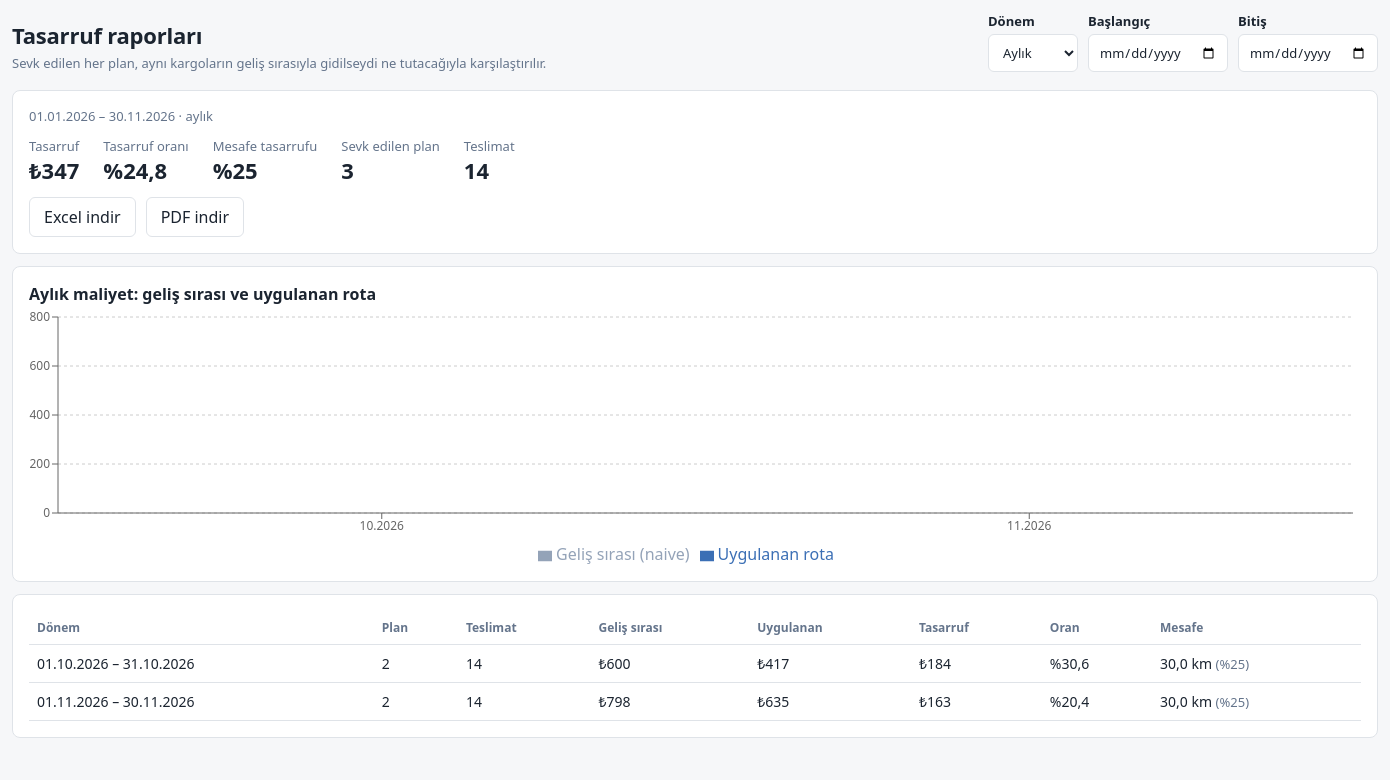
Test: SavingsPage (F9) › should download the report with the same range under the server file name
The image size is (1390, 780).
What coordinates should you click on to do the following:
click the button "PDF indir"
I would click on:
 (195, 217)
Its box is [146,197,244,237].
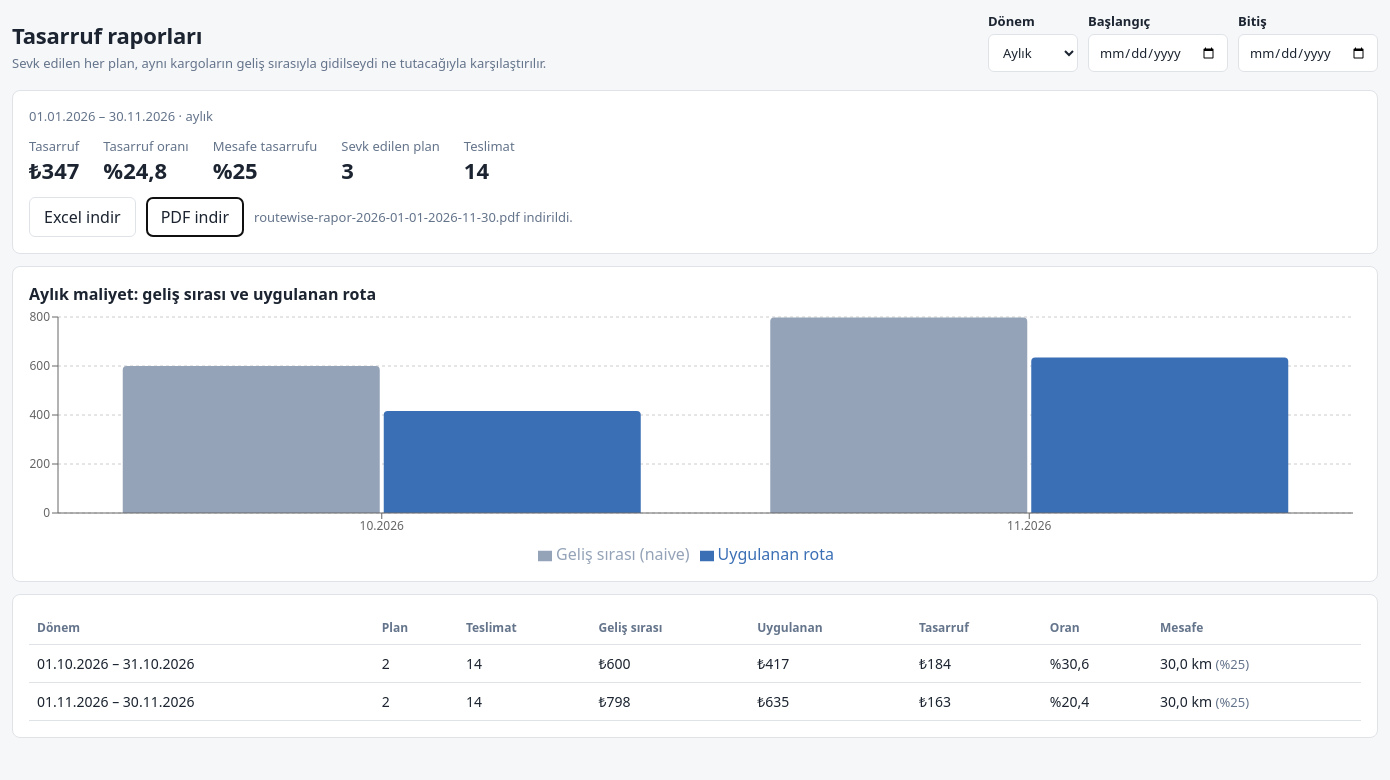
Expected: the text "routewise-rapor-2026-01-01-2026-11-30.pdf indirildi." is shown, [254,208,573,226]
